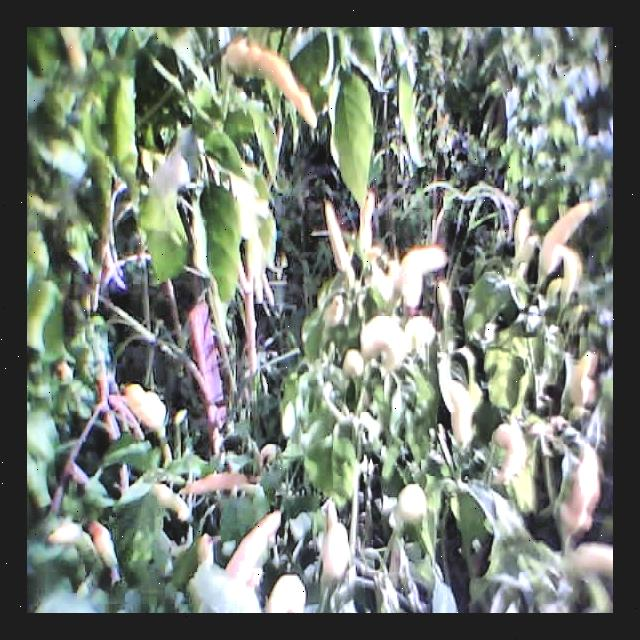Cabai: (226, 27, 322, 136)
